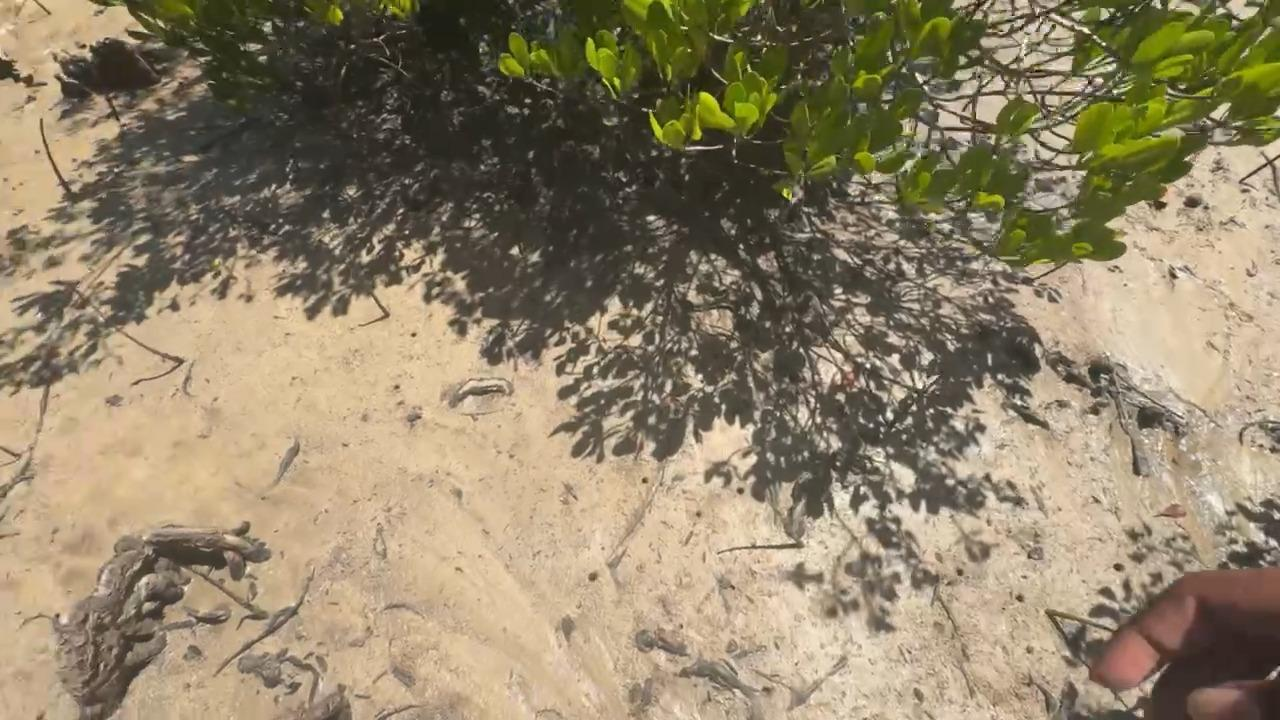Tree: (70, 283, 184, 363), (153, 548, 269, 619), (40, 119, 71, 194), (1046, 608, 1116, 634), (1240, 155, 1280, 182), (362, 282, 390, 317), (718, 543, 805, 554), (32, 0, 52, 16), (0, 446, 20, 458)
